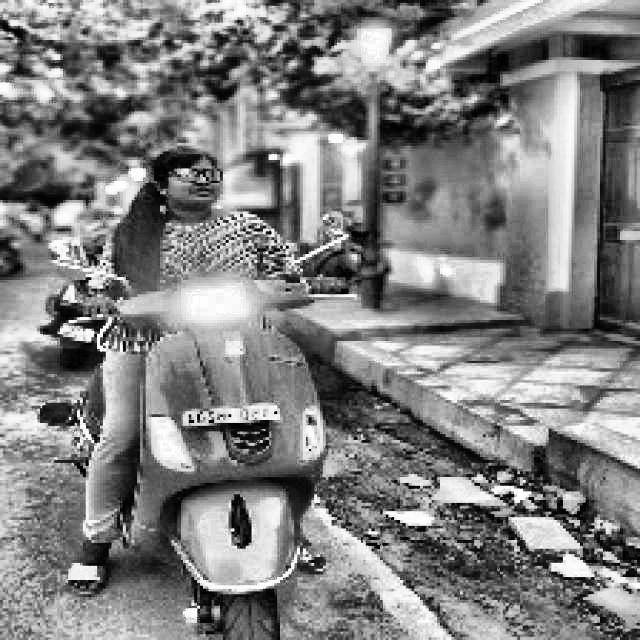motorcycle: (50, 213, 409, 640)
